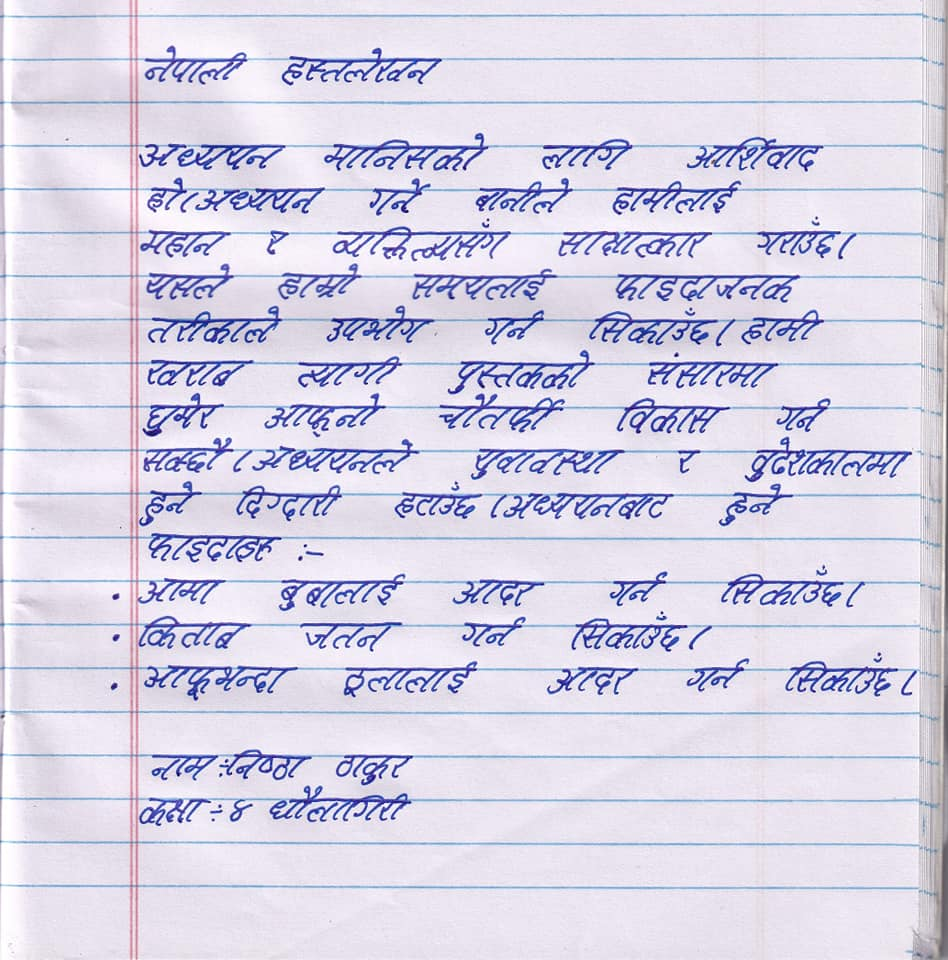text: (597, 267, 804, 307), (280, 46, 444, 90), (332, 222, 516, 261), (322, 132, 492, 174), (443, 349, 596, 394), (743, 437, 879, 487), (257, 440, 422, 479), (553, 222, 717, 261), (684, 132, 828, 176), (433, 392, 566, 439), (139, 662, 302, 700), (715, 564, 844, 612), (268, 784, 412, 827), (642, 352, 780, 396), (462, 445, 626, 482), (140, 308, 286, 349), (606, 177, 741, 221), (608, 394, 733, 441), (408, 263, 558, 302), (334, 660, 487, 698), (503, 488, 673, 522), (262, 392, 388, 437), (272, 569, 406, 611), (784, 653, 901, 701), (132, 138, 292, 173), (565, 613, 684, 660), (579, 309, 715, 348), (141, 532, 284, 569), (132, 613, 254, 652), (233, 482, 348, 523), (197, 182, 329, 217), (136, 44, 252, 83), (140, 353, 255, 392), (326, 308, 437, 348), (292, 353, 403, 392), (739, 306, 829, 352), (754, 215, 838, 262), (294, 620, 408, 654), (140, 263, 236, 303), (132, 437, 232, 475), (388, 484, 483, 523), (471, 179, 572, 215), (134, 395, 222, 436), (537, 136, 634, 173), (226, 743, 310, 784), (270, 263, 364, 299), (720, 484, 795, 528), (546, 664, 646, 697), (137, 228, 233, 262), (330, 749, 416, 786), (451, 575, 543, 609), (363, 173, 432, 216), (140, 479, 203, 525), (133, 792, 209, 830), (136, 576, 224, 608), (478, 306, 551, 344), (602, 568, 670, 607), (140, 751, 217, 785), (456, 616, 532, 650), (771, 399, 837, 434), (687, 658, 751, 693), (141, 176, 186, 214), (259, 221, 294, 261), (667, 445, 706, 480), (227, 793, 258, 827)
